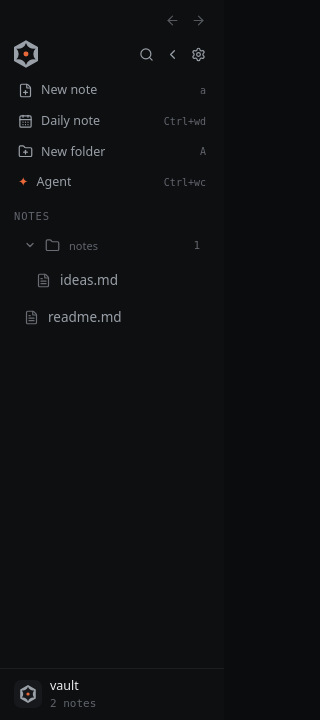
Test: SidebarContextMenu › starts inline editing when Rename is selected
Right-click the list item "notes" at (30, 245), box [24,238,200,253]
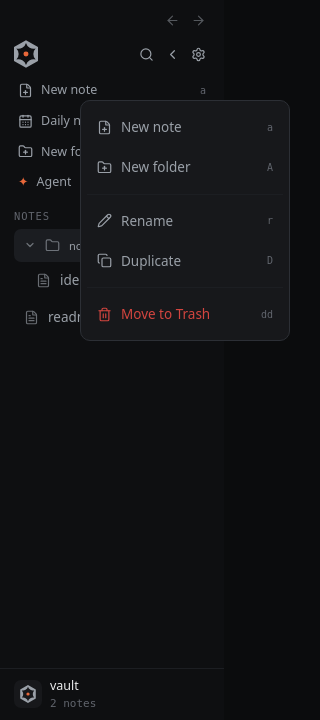
Click the menu item "Rename r" at (147, 220), box [97,212,273,230]
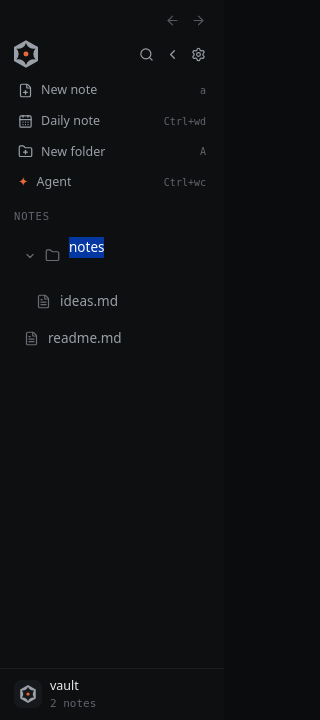
Expected: the field named "Rename folder" holds "notes", [69,237,200,258]
